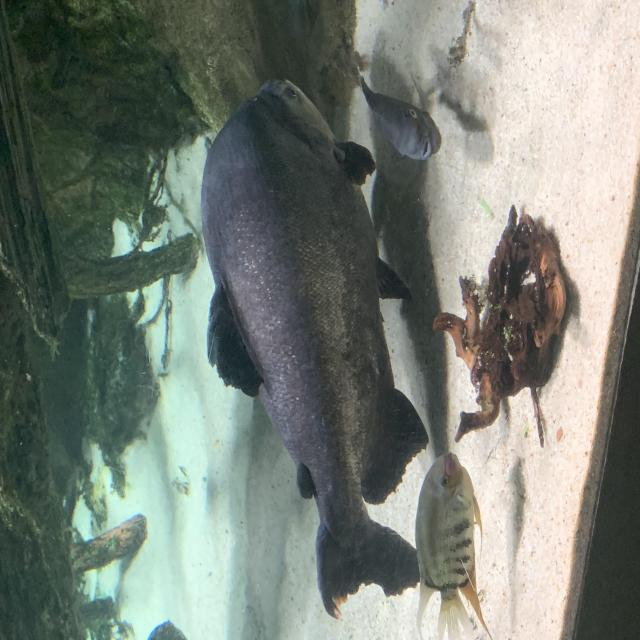fish: (200, 70, 436, 622), (416, 450, 492, 640), (360, 74, 441, 161)
